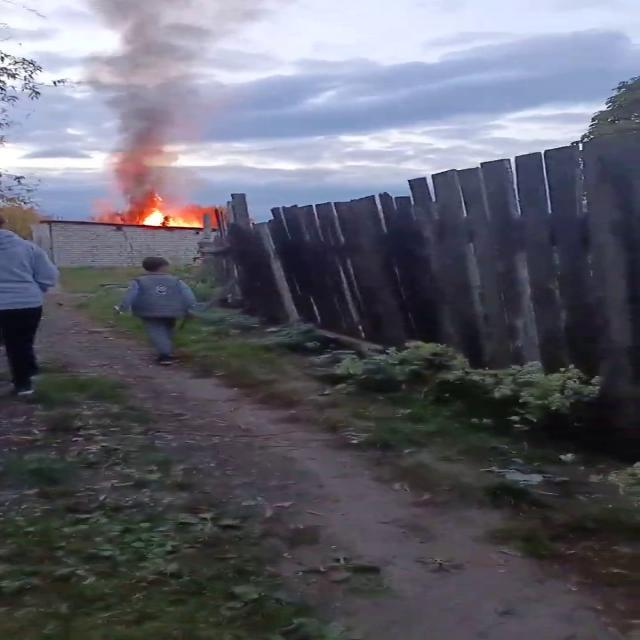Fire: (128, 200, 206, 230)
Smoke: (253, 424, 632, 640), (84, 0, 210, 198)
